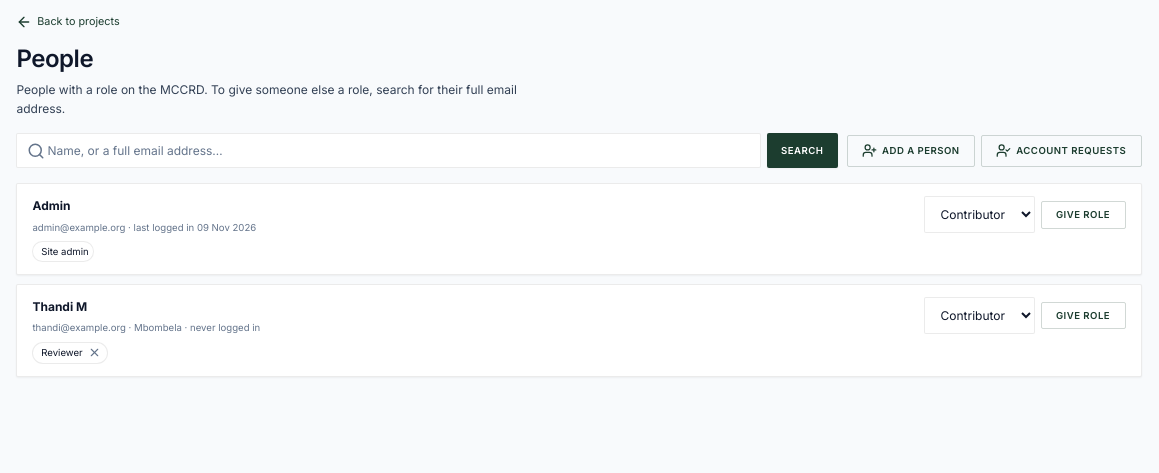
AdminUsers › takes a role away, but offers no way to take away your own
Click the button named "Take away reviewer on MCCRD from Thandi M" at (94, 353), box 86,345 -> 102,361
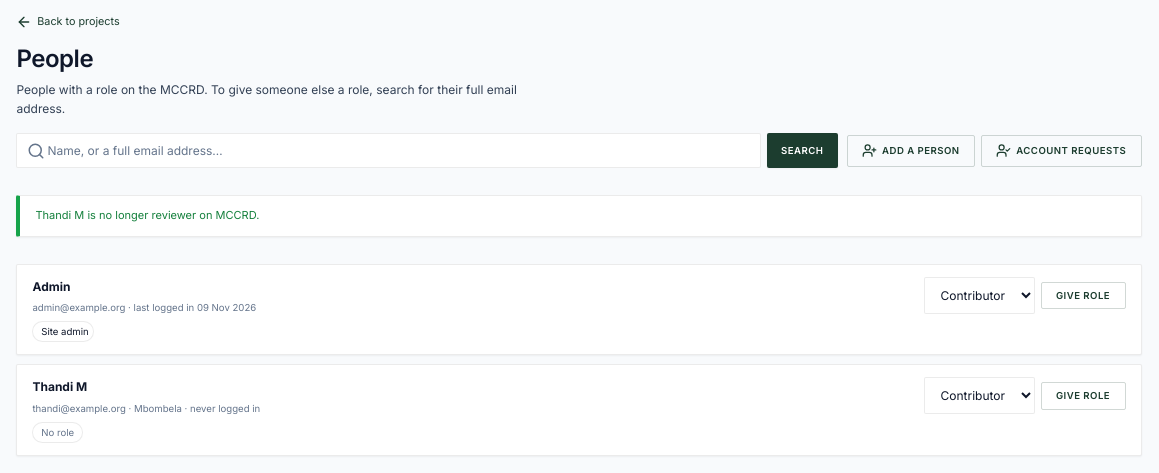
Now the list named "Thandi M's roles" reads "No role", box 41,427 -> 74,438
